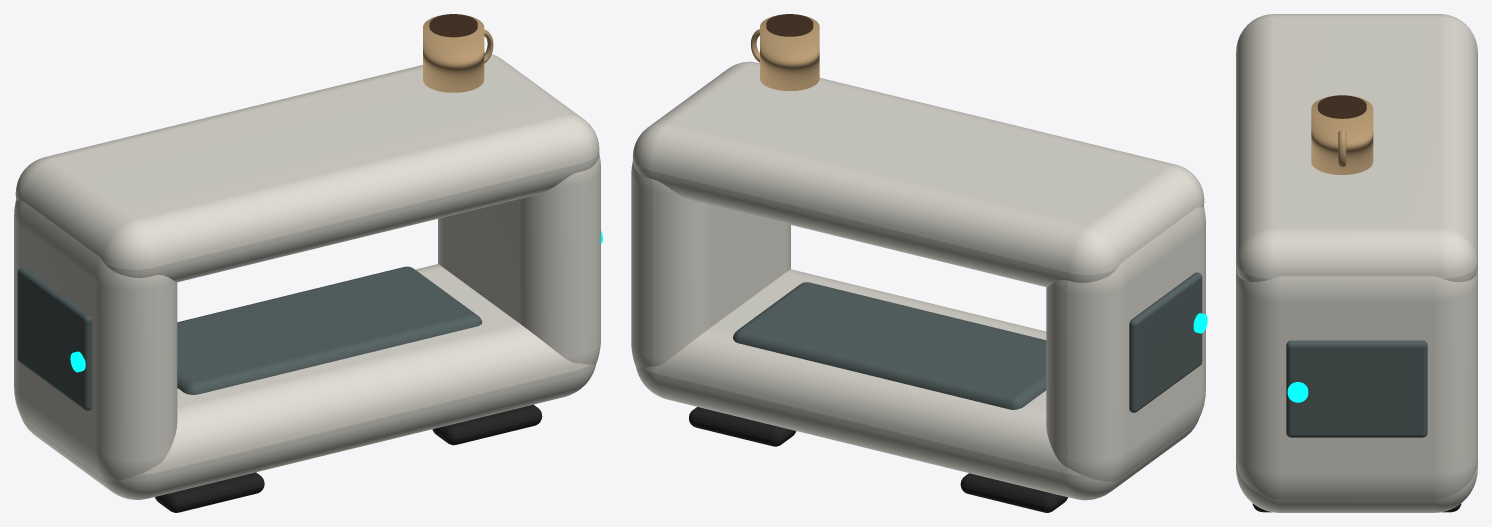
File: PortalTable.fbx
3 renders of one model, left to right at view 1: azimuth 30°, elevation 25°; view 2: azimuth 150°, elevation 25°; view 3: azimuth 270°, elevation 25°, orthographic. The views are drawn at different scales.
Parts seen in each view (by area): view 1: Table_Top_White_Cap, Table_Bottom_White_Base, Table_Left_White_Side, Dark_Inner_Bottom_Shelf, Table_Right_White_Side, Left_Side_Dark_Panel, Small_Cup_Body, Right_Front_Foot, Left_Front_Foot, Coffee_Surface; view 2: Table_Top_White_Cap, Table_Bottom_White_Base, Table_Left_White_Side, Dark_Inner_Bottom_Shelf, Table_Right_White_Side, Left_Side_Dark_Panel, Small_Cup_Body, Left_Back_Foot, Right_Back_Foot, Coffee_Surface; view 3: Table_Top_White_Cap, Table_Right_White_Side, Right_Side_Dark_Panel, Small_Cup_Body, Table_Bottom_White_Base, Coffee_Surface, Right_Side_Small_Cyan_Light, Cup_Handle.
Part boxes in pixels (x1=…): Table_Top_White_Cap: x1=15, y1=52, x2=599, y2=282; Table_Bottom_White_Base: x1=21, y1=264, x2=595, y2=499; Table_Left_White_Side: x1=14, y1=200, x2=177, y2=481; Dark_Inner_Bottom_Shelf: x1=177, y1=266, x2=482, y2=394; Table_Right_White_Side: x1=438, y1=153, x2=600, y2=364; Left_Side_Dark_Panel: x1=17, y1=267, x2=92, y2=410; Small_Cup_Body: x1=423, y1=15, x2=484, y2=92; Right_Front_Foot: x1=432, y1=404, x2=542, y2=445; Left_Front_Foot: x1=155, y1=472, x2=264, y2=512; Coffee_Surface: x1=429, y1=14, x2=477, y2=37; Table_Top_White_Cap: x1=632, y1=61, x2=1204, y2=287; Table_Bottom_White_Base: x1=636, y1=269, x2=1198, y2=500; Table_Left_White_Side: x1=1046, y1=207, x2=1205, y2=481; Dark_Inner_Bottom_Shelf: x1=733, y1=282, x2=1046, y2=409; Table_Right_White_Side: x1=631, y1=161, x2=790, y2=367; Left_Side_Dark_Panel: x1=1129, y1=272, x2=1202, y2=412; Small_Cup_Body: x1=760, y1=15, x2=819, y2=91; Left_Back_Foot: x1=960, y1=473, x2=1067, y2=512; Right_Back_Foot: x1=689, y1=407, x2=796, y2=446; Coffee_Surface: x1=766, y1=14, x2=813, y2=36; Table_Top_White_Cap: x1=1236, y1=14, x2=1477, y2=282; Table_Right_White_Side: x1=1236, y1=272, x2=1477, y2=499; Right_Side_Dark_Panel: x1=1286, y1=340, x2=1427, y2=437; Small_Cup_Body: x1=1311, y1=96, x2=1373, y2=174; Table_Bottom_White_Base: x1=1236, y1=264, x2=1477, y2=512; Coffee_Surface: x1=1317, y1=95, x2=1366, y2=118; Right_Side_Small_Cyan_Light: x1=1287, y1=382, x2=1308, y2=402; Cup_Handle: x1=1338, y1=130, x2=1346, y2=167.
Bounding box in the file's own units: 207 × 145 × 82.
